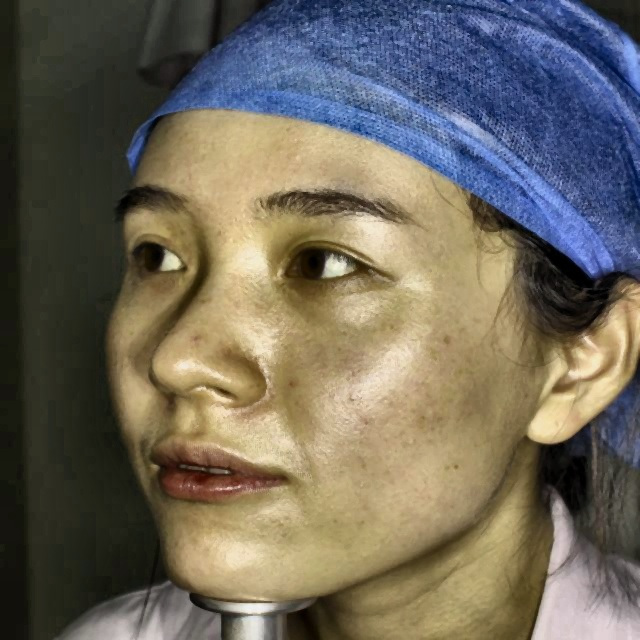comedone: (188, 324, 210, 353)
